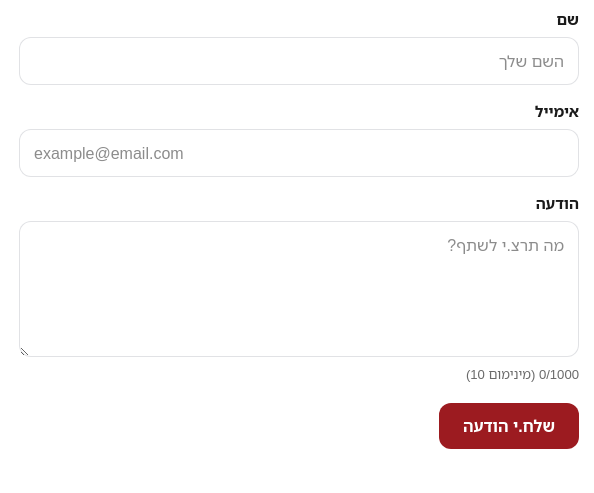
Test: ContactForm › shows validation error for too-short message
The image size is (594, 493).
Type "יוסי" into the field with placeholder "השם שלך" at (299, 61), box [19, 37, 579, 85]
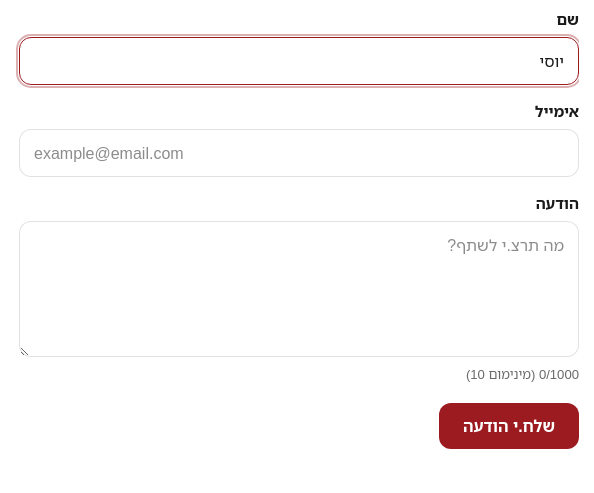
Type "test@test.com" into the field with placeholder "example@email.com" at (299, 153), box [19, 129, 579, 177]
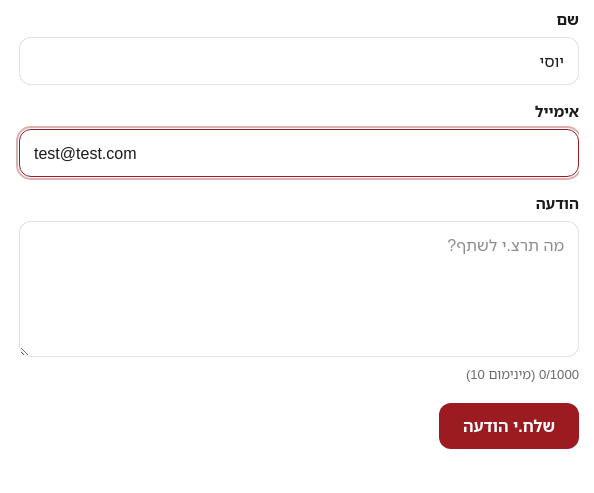
Type "קצר" into the text box with placeholder "מה תרצ.י לשתף?" at (299, 289), box [19, 221, 579, 357]
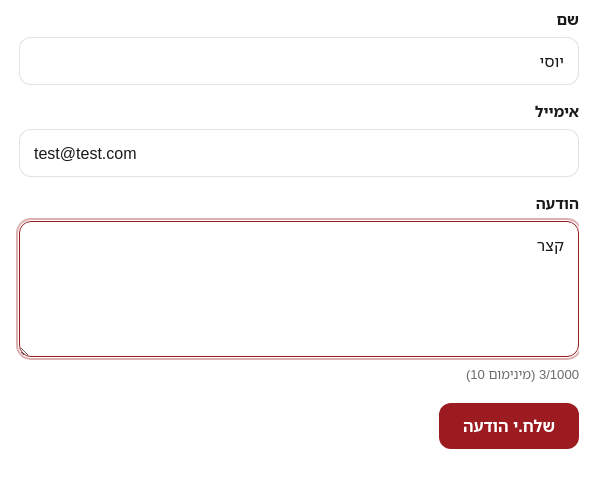
Click the button "שלח.י הודעה" at (509, 426), box [439, 403, 579, 449]
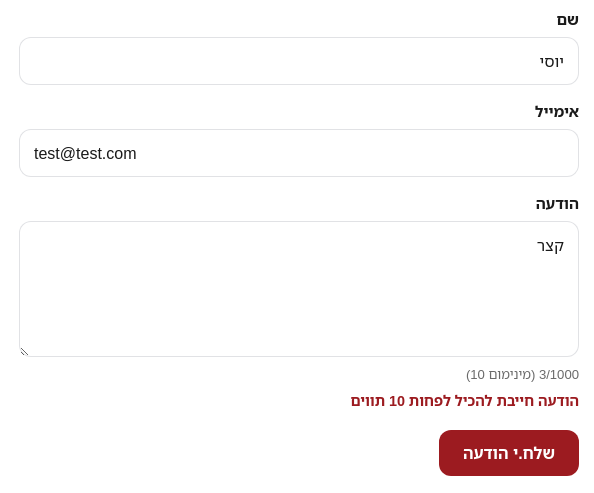
Expected: the text "הודעה חייבת להכיל לפחות 10 תווים" is shown, [350, 391, 579, 410]
